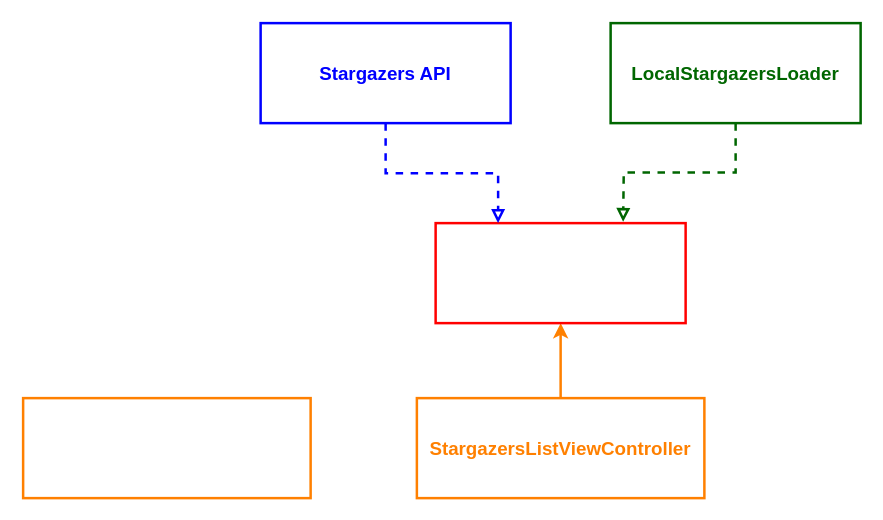
Image size: 883x520. Some labels were removed from this diagram. Each missing label, with the centre of its shape:
<Stargazers Feature>: pixel 560 272
InsertRepoInfoViewController: pixel 166 447
